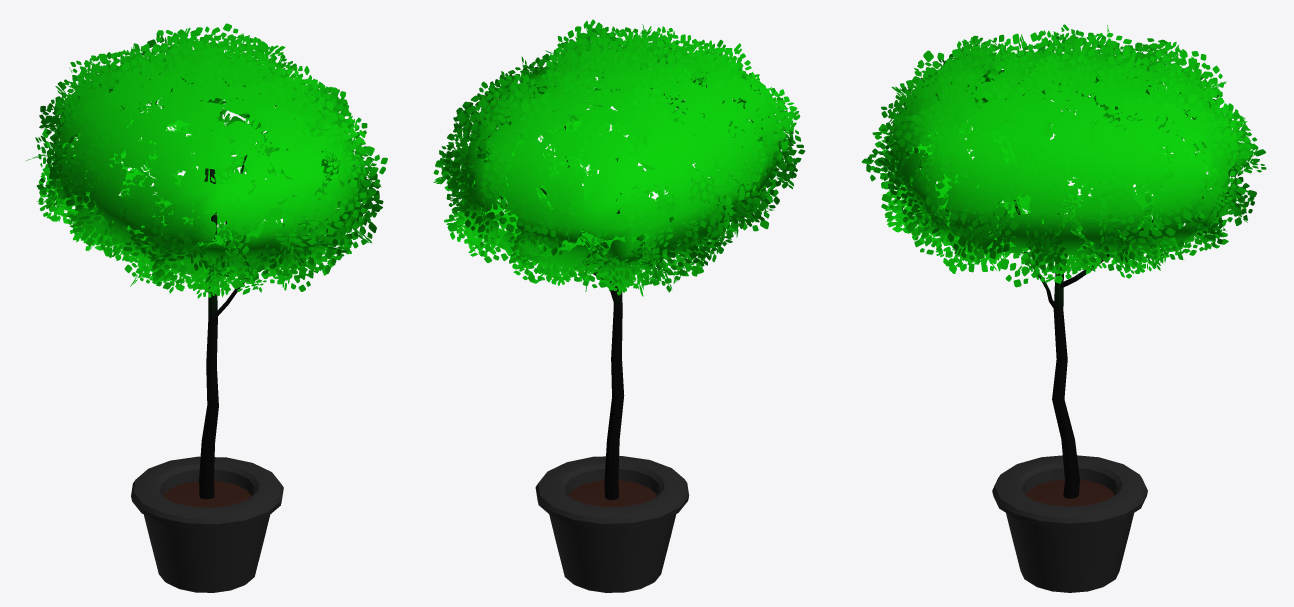
File: Arbolito_Maceta_01.fbx
The picture shows the model from 3 angles, left to right: view 1: azimuth 30°, elevation 25°; view 2: azimuth 150°, elevation 25°; view 3: azimuth 270°, elevation 25°; orthographic projection.
Visible parts, largest first — view 1: Foliage, Maeta, Trunk, DirtShape; view 2: Foliage, Maeta, Trunk, DirtShape; view 3: Foliage, Maeta, Trunk, DirtShape.
Part boxes in pixels (bbox=[...]): Foliage: bbox=[26, 23, 387, 298]; Maeta: bbox=[131, 456, 283, 592]; Trunk: bbox=[199, 102, 246, 499]; DirtShape: bbox=[163, 481, 251, 507]; Foliage: bbox=[433, 19, 805, 296]; Maeta: bbox=[535, 456, 689, 592]; Trunk: bbox=[500, 126, 624, 500]; DirtShape: bbox=[568, 480, 656, 507]; Foliage: bbox=[861, 24, 1266, 287]; Maeta: bbox=[992, 455, 1147, 592]; Trunk: bbox=[1014, 200, 1153, 498]; DirtShape: bbox=[1025, 479, 1114, 506].
Size of the model in its own units: 218 by 362 by 264.
